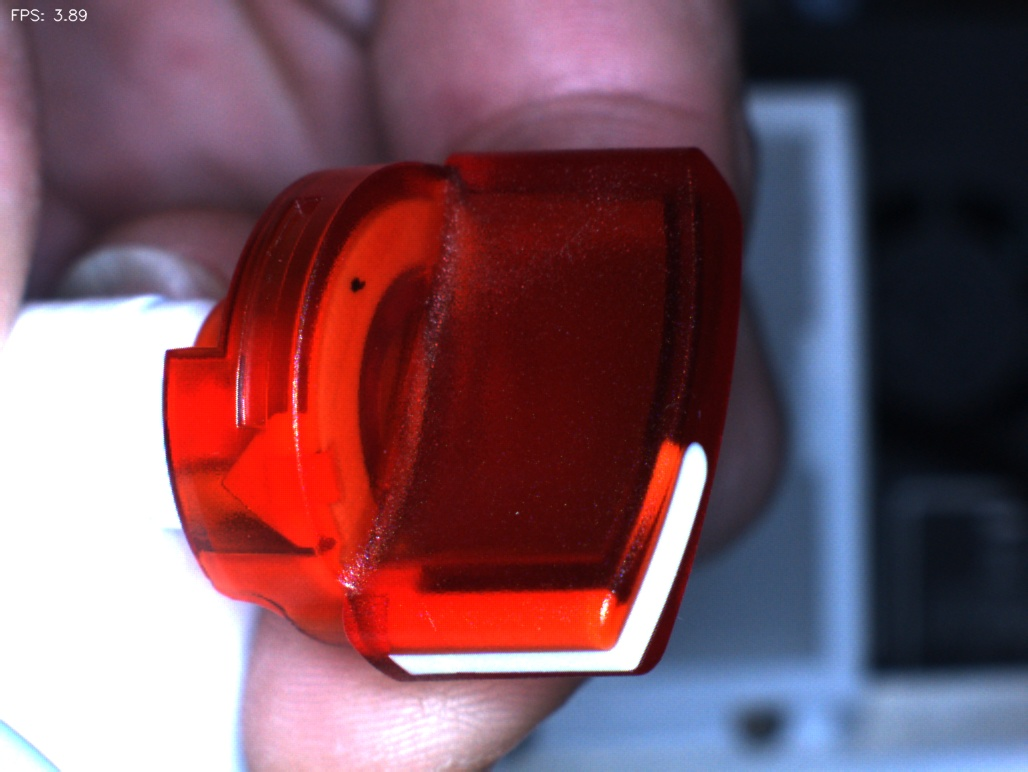PointNoir: (326, 245, 389, 319)
